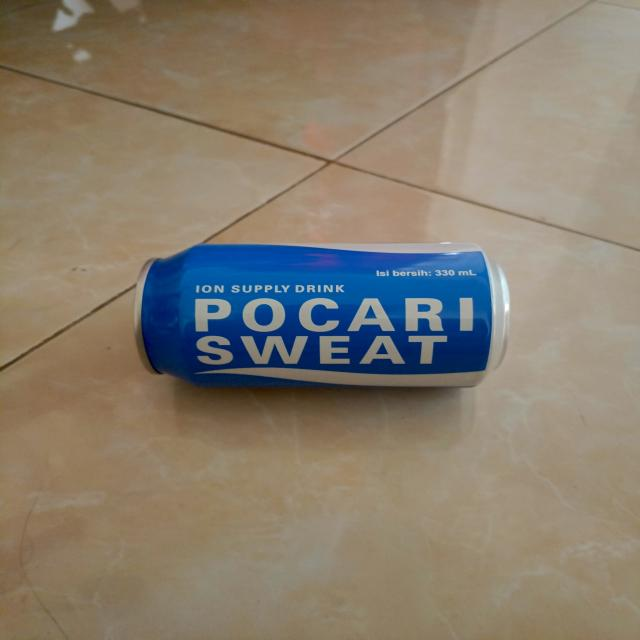pocari-sweat: (133, 245, 513, 392)
